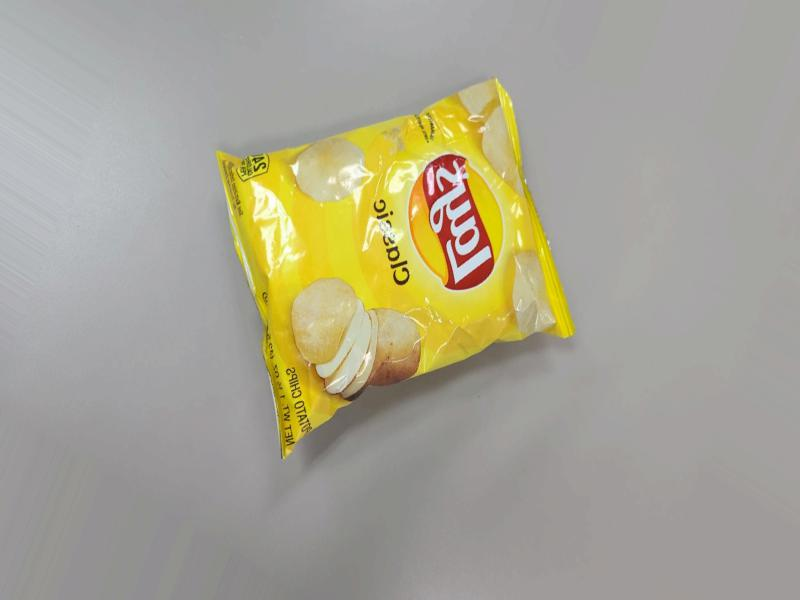lays: (209, 54, 575, 464)
